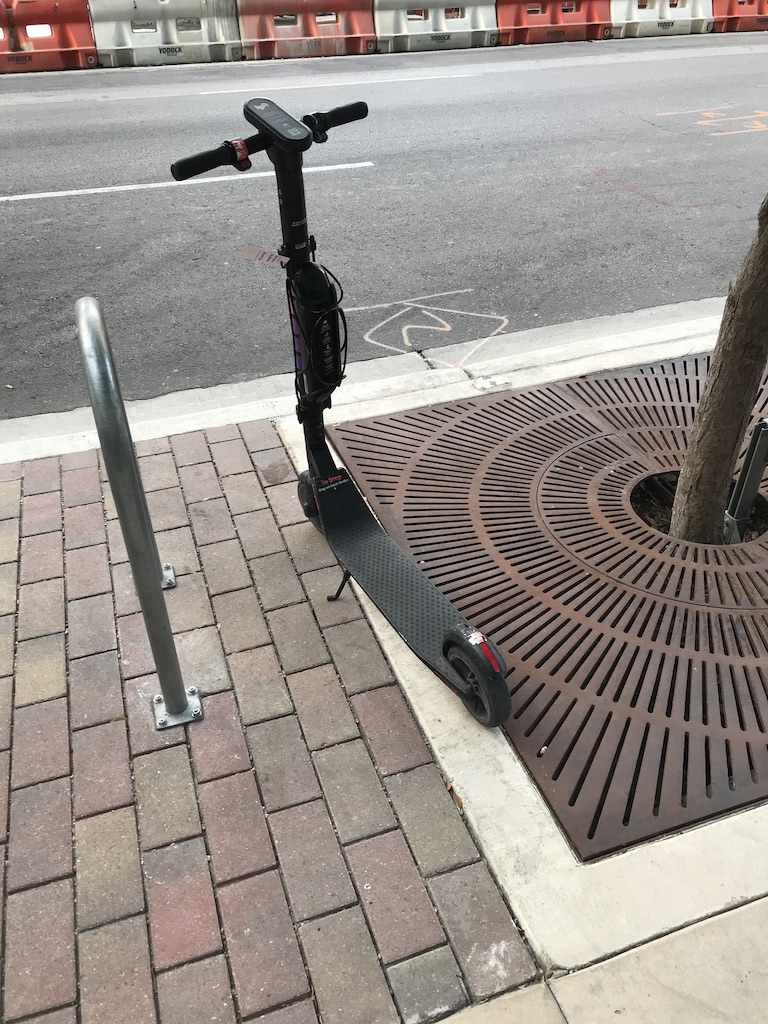scooter: (169, 96, 515, 730)
